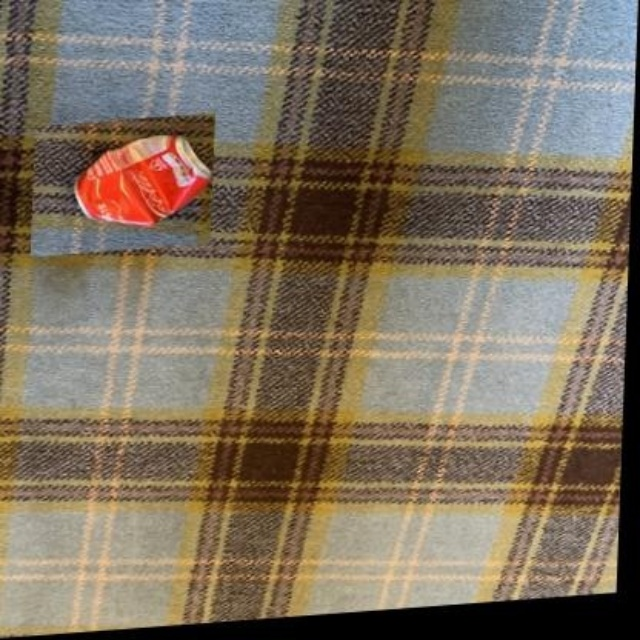trash: (75, 135, 209, 225)
